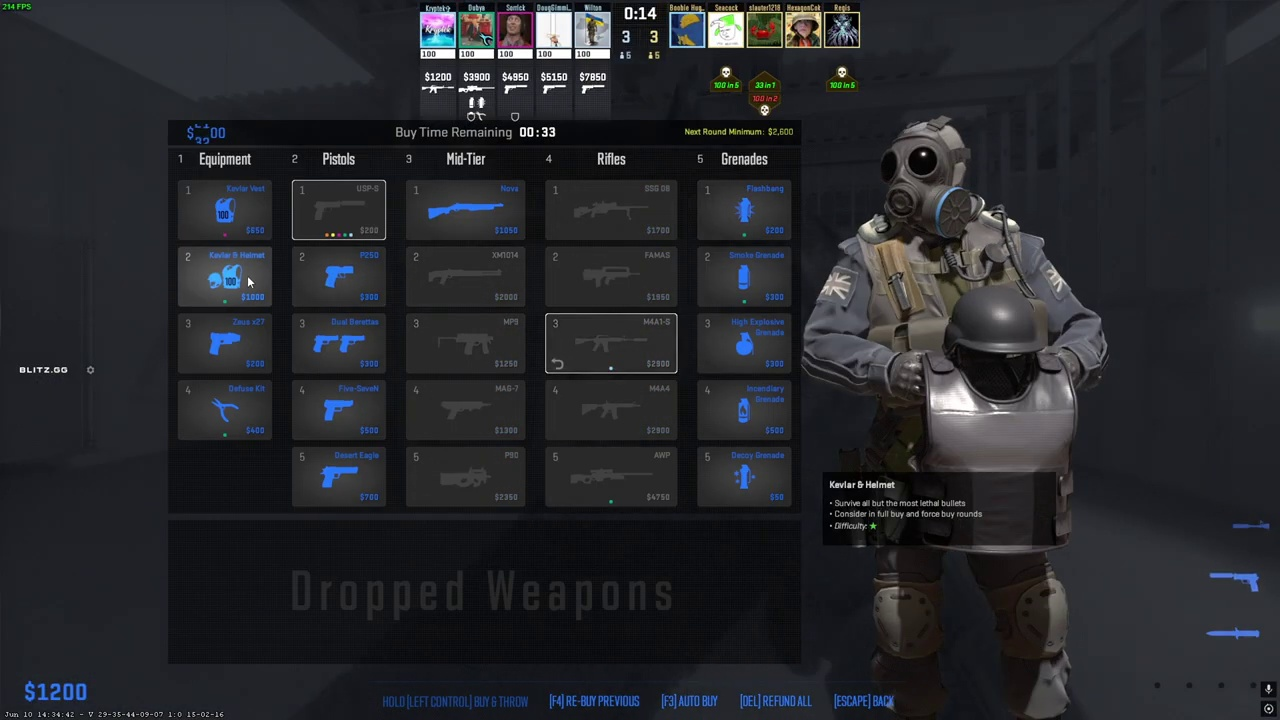CT: (854, 121, 1080, 720)
